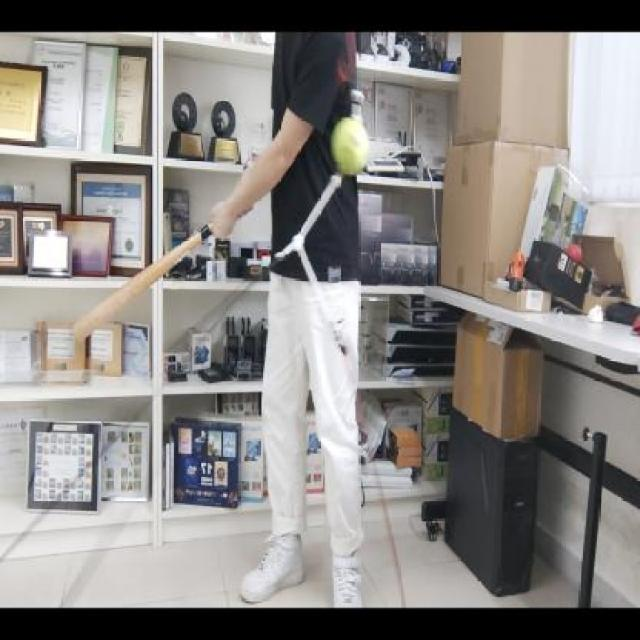baseball: (330, 111, 372, 180)
